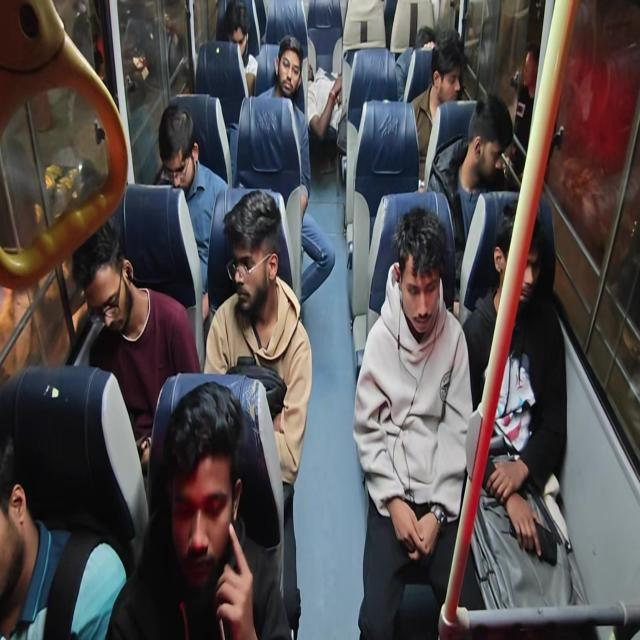person: (352, 206, 475, 638), (203, 189, 313, 636), (105, 380, 292, 639), (461, 201, 575, 610), (72, 215, 202, 476), (0, 437, 128, 639), (257, 35, 335, 304), (426, 92, 514, 288), (152, 103, 229, 319), (409, 28, 466, 184), (511, 40, 541, 177), (216, 0, 258, 96), (395, 24, 436, 102)
